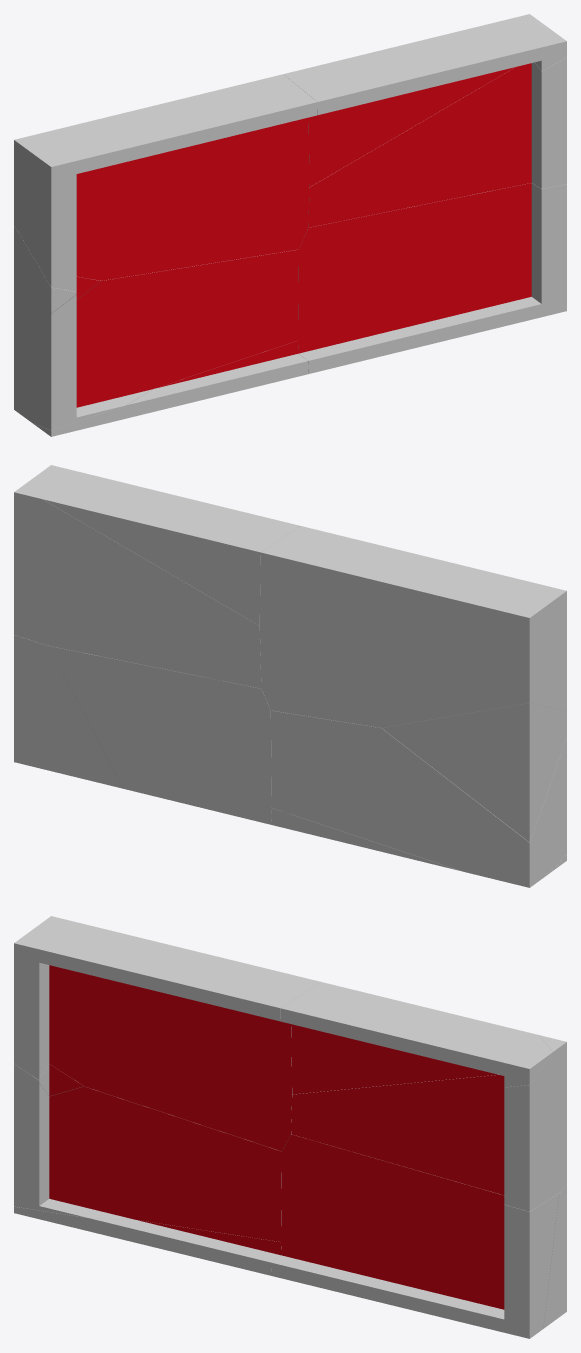
Rendered from Wall 8x4x1 Fractured.fbx.
The picture shows the model from 3 angles, top to bottom: view 1: azimuth 30°, elevation 25°; view 2: azimuth 150°, elevation 25°; view 3: azimuth 330°, elevation 25°; orthographic projection.
Parts seen in each view (by area): view 1: wall 8x4x1_cell.001, wall 8x4x1_cell.002, wall 8x4x1_cell, wall 8x4x1_cell.003, wall 8x4x1_cell.005, wall 8x4x1_cell.006, wall 8x4x1_cell.007; view 2: wall 8x4x1_cell.001, wall 8x4x1_cell, wall 8x4x1_cell.003, wall 8x4x1_cell.002, wall 8x4x1_cell.005, wall 8x4x1_cell.007, wall 8x4x1_cell.004, wall 8x4x1_cell.006; view 3: wall 8x4x1_cell.001, wall 8x4x1_cell.002, wall 8x4x1_cell, wall 8x4x1_cell.003, wall 8x4x1_cell.005, wall 8x4x1_cell.006, wall 8x4x1_cell.004, wall 8x4x1_cell.007.
Boxes of the visible parts, x1,y1,x2,y2 form: wall 8x4x1_cell.001: [14, 74, 317, 291]; wall 8x4x1_cell.002: [298, 183, 566, 373]; wall 8x4x1_cell: [14, 249, 298, 430]; wall 8x4x1_cell.003: [308, 14, 566, 227]; wall 8x4x1_cell.005: [283, 21, 566, 187]; wall 8x4x1_cell.006: [32, 340, 308, 436]; wall 8x4x1_cell.007: [14, 225, 100, 363]; wall 8x4x1_cell.001: [260, 526, 566, 727]; wall 8x4x1_cell: [271, 710, 566, 887]; wall 8x4x1_cell.003: [14, 482, 261, 688]; wall 8x4x1_cell.002: [48, 646, 271, 824]; wall 8x4x1_cell.005: [28, 465, 299, 625]; wall 8x4x1_cell.007: [382, 703, 566, 842]; wall 8x4x1_cell.004: [14, 635, 123, 788]; wall 8x4x1_cell.006: [271, 808, 566, 874]; wall 8x4x1_cell.001: [14, 916, 319, 1151]; wall 8x4x1_cell.002: [271, 1134, 559, 1338]; wall 8x4x1_cell: [14, 1083, 281, 1241]; wall 8x4x1_cell.003: [291, 1035, 566, 1211]; wall 8x4x1_cell.005: [280, 981, 552, 1094]; wall 8x4x1_cell.006: [14, 1206, 281, 1275]; wall 8x4x1_cell.004: [543, 1185, 566, 1328]; wall 8x4x1_cell.007: [14, 1063, 83, 1096].
Size of the model in its own units: 8 by 4 by 1.
